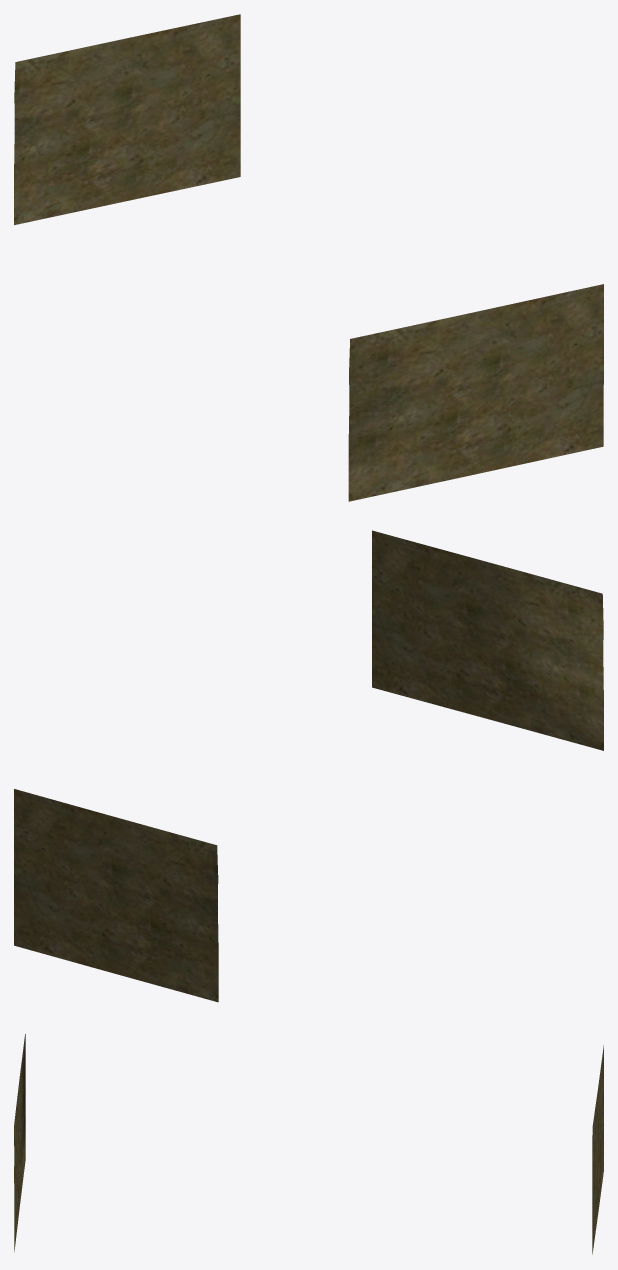
File: CH09_SMAUG_PLAYSURFACE_LAIR128.fbx
The picture shows the model from 3 angles, top to bottom: view 1: azimuth 30°, elevation 25°; view 2: azimuth 150°, elevation 25°; view 3: azimuth 270°, elevation 25°; orthographic projection. The views are drawn at different scales.
Visible parts, largest first — view 1: CH09_SMAUG_PLAYSURFACE_LAIR128; view 2: CH09_SMAUG_PLAYSURFACE_LAIR128; view 3: CH09_SMAUG_PLAYSURFACE_LAIR128.
Part boxes in pixels (left/top/right/bottom): CH09_SMAUG_PLAYSURFACE_LAIR128: left=14, top=14, right=603, bottom=501; CH09_SMAUG_PLAYSURFACE_LAIR128: left=14, top=530, right=603, bottom=1002; CH09_SMAUG_PLAYSURFACE_LAIR128: left=14, top=1034, right=603, bottom=1254.
Size of the model in its own units: 52374 by 32333 by 134830.
Materials: 1 (1 with a texture image).
